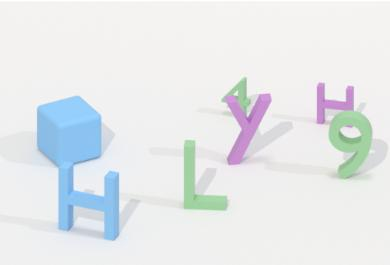0-KhoiVuong: (33, 92, 107, 171)
9: (325, 109, 377, 184)
H: (55, 157, 124, 246), (315, 77, 356, 130)
L: (179, 134, 230, 215)
y: (220, 91, 279, 170), (217, 72, 256, 121)
